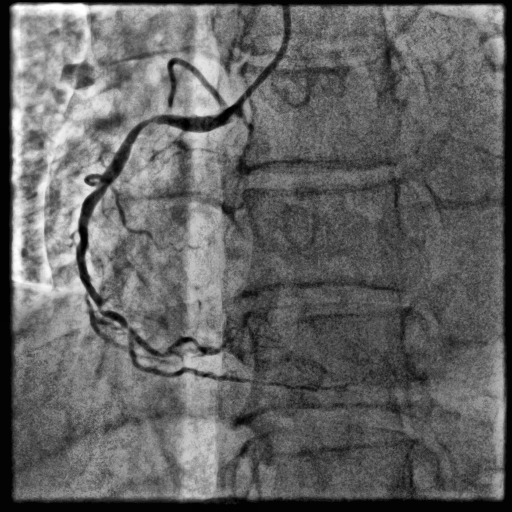pborca: (133, 332, 218, 357)
pda: (128, 334, 287, 386)
rca: (76, 102, 238, 335)
